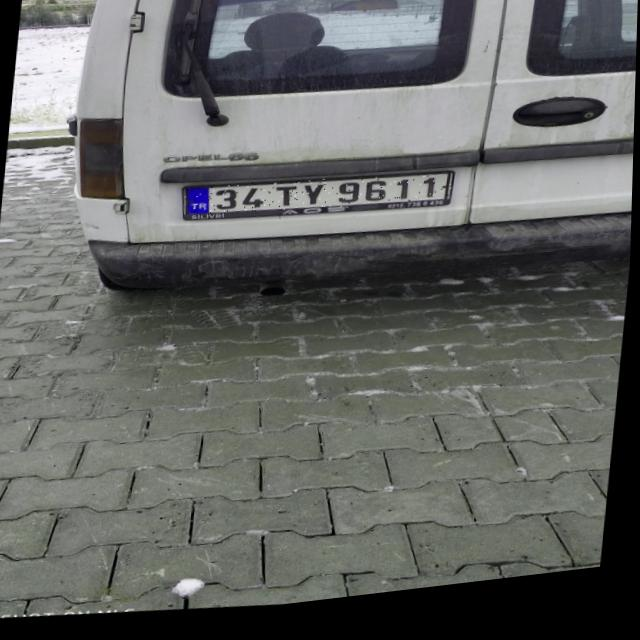license_plate: (184, 165, 454, 238)
